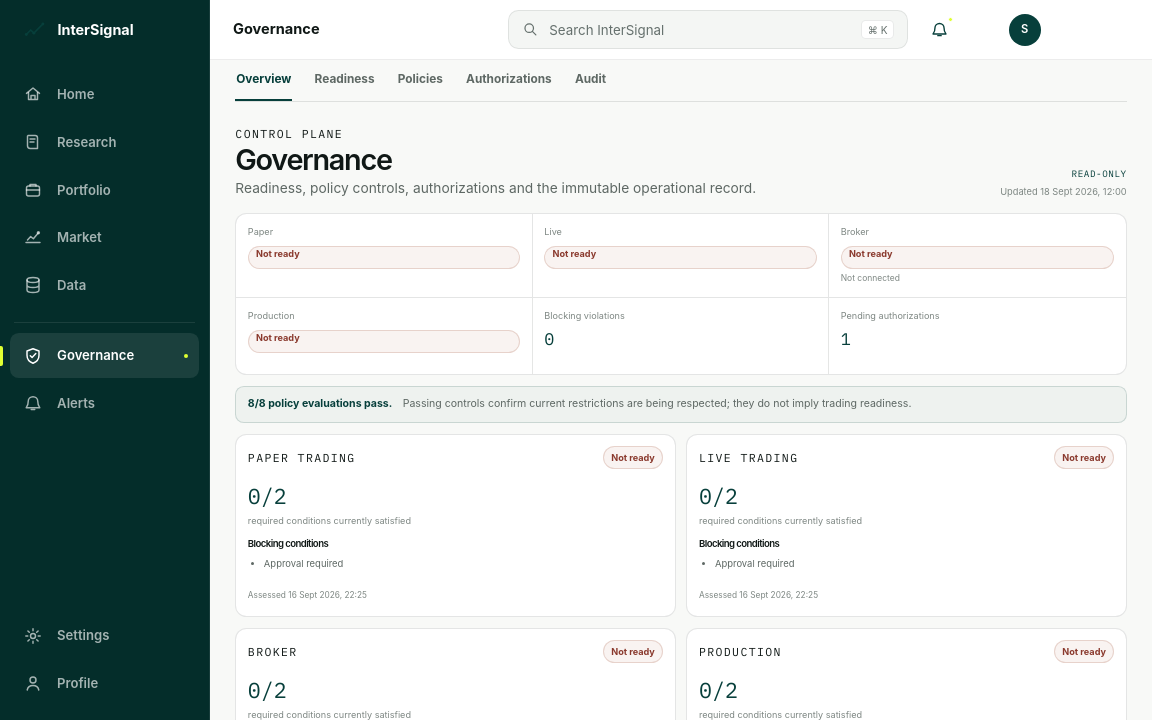
Governance pages › shows distinct readiness, policy, authorization and violation truths
expect the heading "Governance" is shown: met, box top-left (235, 142), bottom-right (392, 177)
expect the text "8/8 policy evaluations pass." is shown: met, box top-left (248, 396), bottom-right (392, 412)
Step 1. Click the button with aria-label "Open command palette" → (607, 30), box top-left (508, 10), bottom-right (908, 49)
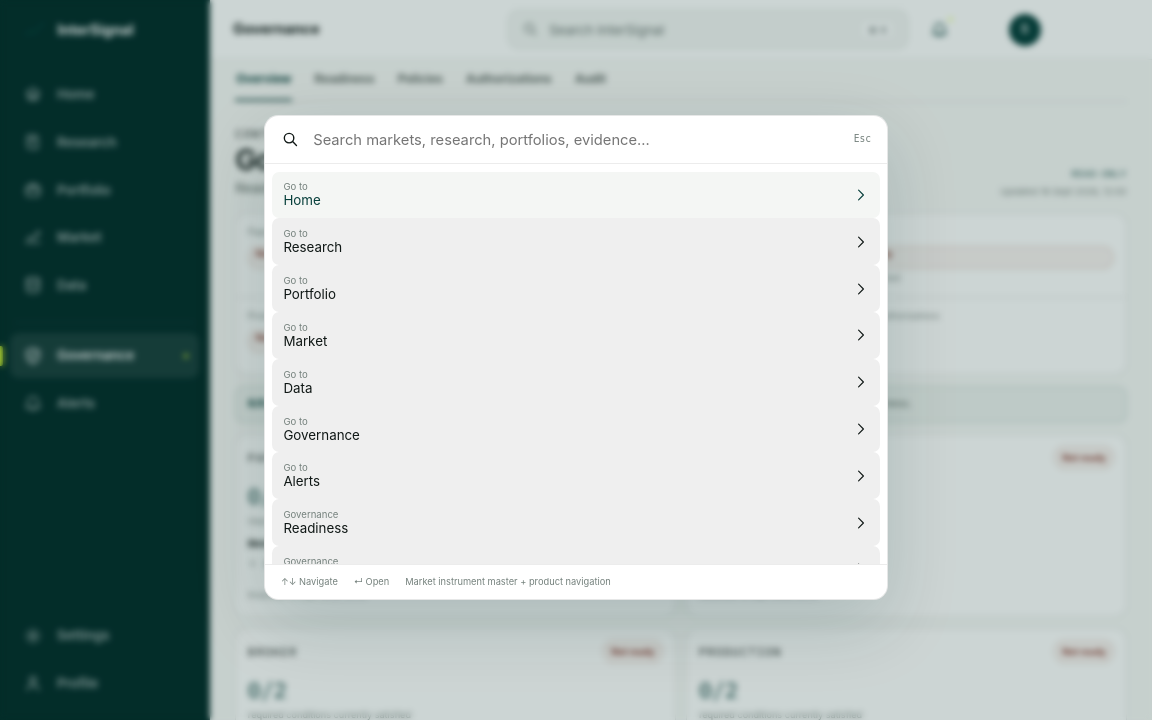
Step 2. Type "authorizations" into the field named "Search commands" → (577, 140), box top-left (311, 130), bottom-right (842, 150)
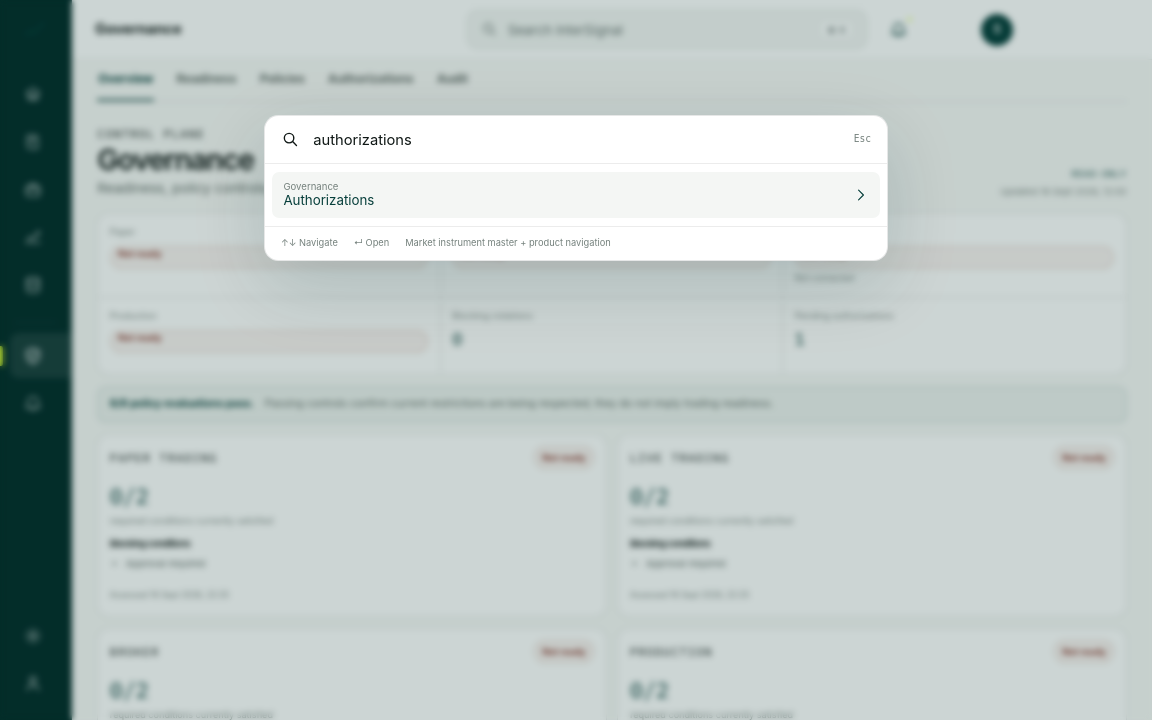
expect the option "Governance Authorizations" is shown: met, box top-left (272, 172), bottom-right (880, 218)
